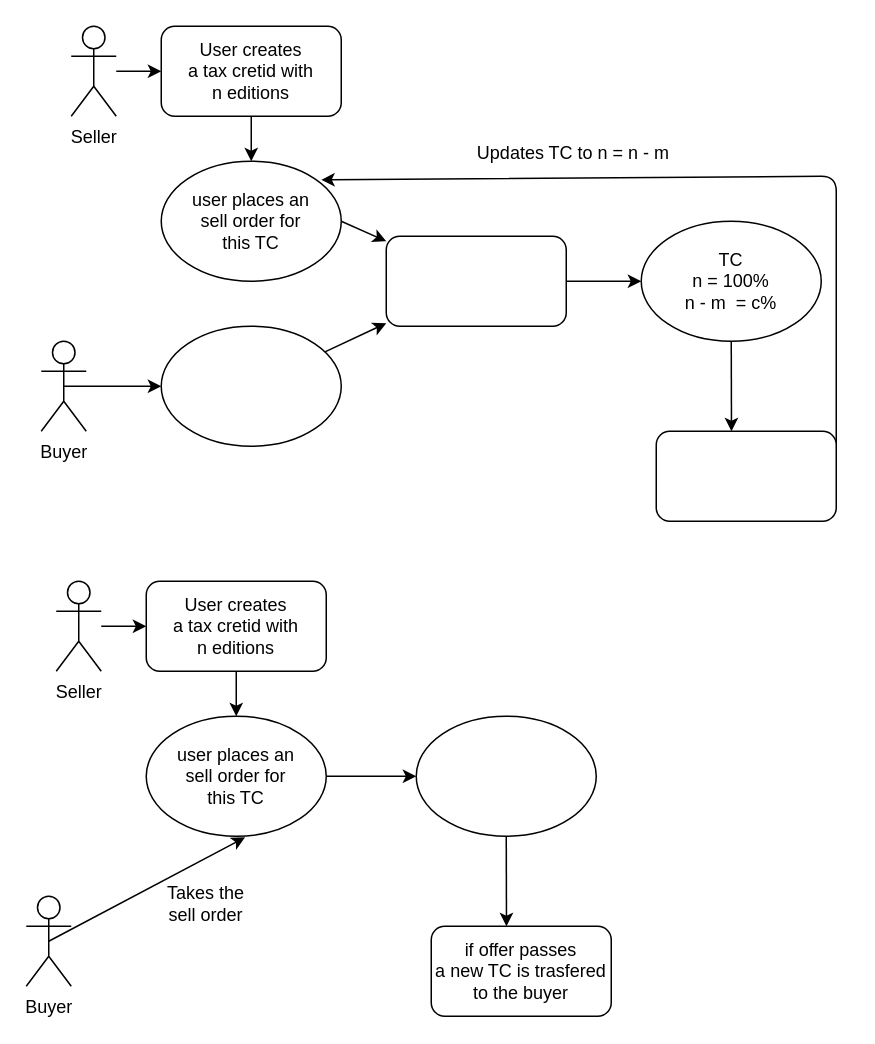
Image size: 875x1044. Some labels were removed from this diagram. The shapes that lost their labels are listed below. From the top down, each one's centre as x and y in pixels, then its label:
At (475,280): "offer matched".
At (250,385): "places a buy offer for a m amount of TC".
At (745,475): "if offer passes a new TC spawns with the c% of the father".
At (505,775): "TC n = 100%".
